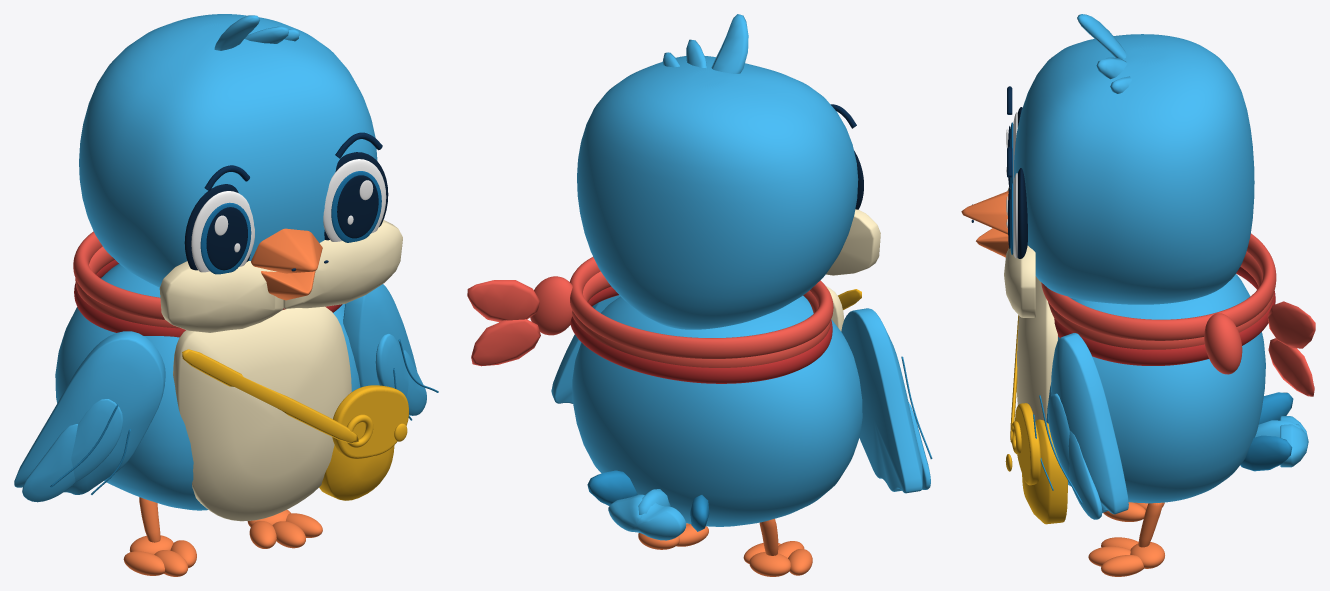
The model's file is gugu-v3-static.glb.
3 views of the same model, side by side, from view 1: azimuth 30°, elevation 25°; view 2: azimuth 150°, elevation 25°; view 3: azimuth 270°, elevation 25° (orthographic). The views are drawn at different scales.
Visible parts, largest first — view 1: CHR_GUGU_Head, DEC_GUGU_BellyPatch, CHR_GUGU_Torso, CHR_GUGU_Wing.R, CHR_GUGU_CheekPad.R, ACC_GUGU_Scarf_Wrap, CHR_GUGU_CheekPad.L, CHR_GUGU_Eye.R, CHR_GUGU_Eye.L, CHR_GUGU_Wing.L, ACC_GUGU_Satchel_Flap, ACC_GUGU_Satchel_Strap (+12 smaller); view 2: CHR_GUGU_Head, CHR_GUGU_Torso, ACC_GUGU_Scarf_Wrap, CHR_GUGU_Wing.R, ACC_GUGU_Scarf_Tail_A, ACC_GUGU_Scarf_Tail_B, DEC_GUGU_TailCover, CHR_GUGU_Tail, CHR_GUGU_CheekPad.R, ACC_GUGU_Scarf_Knot, CHR_GUGU_Foot.R, CHR_GUGU_Crest_A (+2 smaller); view 3: CHR_GUGU_Head, CHR_GUGU_Torso, ACC_GUGU_Scarf_Wrap, CHR_GUGU_Wing.L, DEC_GUGU_BellyPatch, ACC_GUGU_Satchel_Body, CHR_GUGU_Tail, CHR_GUGU_Foot.L, CHR_GUGU_CheekPad.L, ACC_GUGU_Scarf_Knot, ACC_GUGU_Scarf_Tail_A, CHR_GUGU_Eye.L (+12 smaller).
Boxes of the visible parts, x1,y1,x2,y2 form: CHR_GUGU_Head: (79,14,377,287); DEC_GUGU_BellyPatch: (173,306,351,521); CHR_GUGU_Torso: (55,263,360,510); CHR_GUGU_Wing.R: (14,331,165,494); CHR_GUGU_CheekPad.R: (159,261,283,332); ACC_GUGU_Scarf_Wrap: (73,231,342,337); CHR_GUGU_CheekPad.L: (283,220,402,308); CHR_GUGU_Eye.R: (184,184,254,274); CHR_GUGU_Eye.L: (323,152,388,242); CHR_GUGU_Wing.L: (343,284,416,387); ACC_GUGU_Satchel_Flap: (332,385,408,458); ACC_GUGU_Satchel_Strap: (182,349,358,443); CHR_GUGU_Head: (577,55,858,329); CHR_GUGU_Torso: (572,295,862,526); ACC_GUGU_Scarf_Wrap: (570,257,833,383); CHR_GUGU_Wing.R: (841,308,922,493); ACC_GUGU_Scarf_Tail_A: (467,280,539,322); ACC_GUGU_Scarf_Tail_B: (471,319,540,366); DEC_GUGU_TailCover: (608,494,686,540); CHR_GUGU_Tail: (587,470,709,531); CHR_GUGU_CheekPad.R: (826,209,880,275); ACC_GUGU_Scarf_Knot: (530,276,572,335); CHR_GUGU_Foot.R: (743,541,812,576); CHR_GUGU_Crest_A: (711,14,748,73); CHR_GUGU_Head: (1014,34,1254,304); CHR_GUGU_Torso: (1046,274,1265,503); ACC_GUGU_Scarf_Wrap: (1041,233,1276,365); CHR_GUGU_Wing.L: (1051,333,1128,514); DEC_GUGU_BellyPatch: (1016,276,1057,421); ACC_GUGU_Satchel_Body: (1022,419,1067,524); CHR_GUGU_Tail: (1240,392,1303,471); CHR_GUGU_Foot.L: (1088,537,1164,576); CHR_GUGU_CheekPad.L: (1004,245,1035,317); ACC_GUGU_Scarf_Knot: (1204,313,1242,374); ACC_GUGU_Scarf_Tail_A: (1267,301,1315,348); CHR_GUGU_Eye.L: (1006,168,1027,258).
Size of the model in its own units: 5.32 by 6.99 by 4.26.
